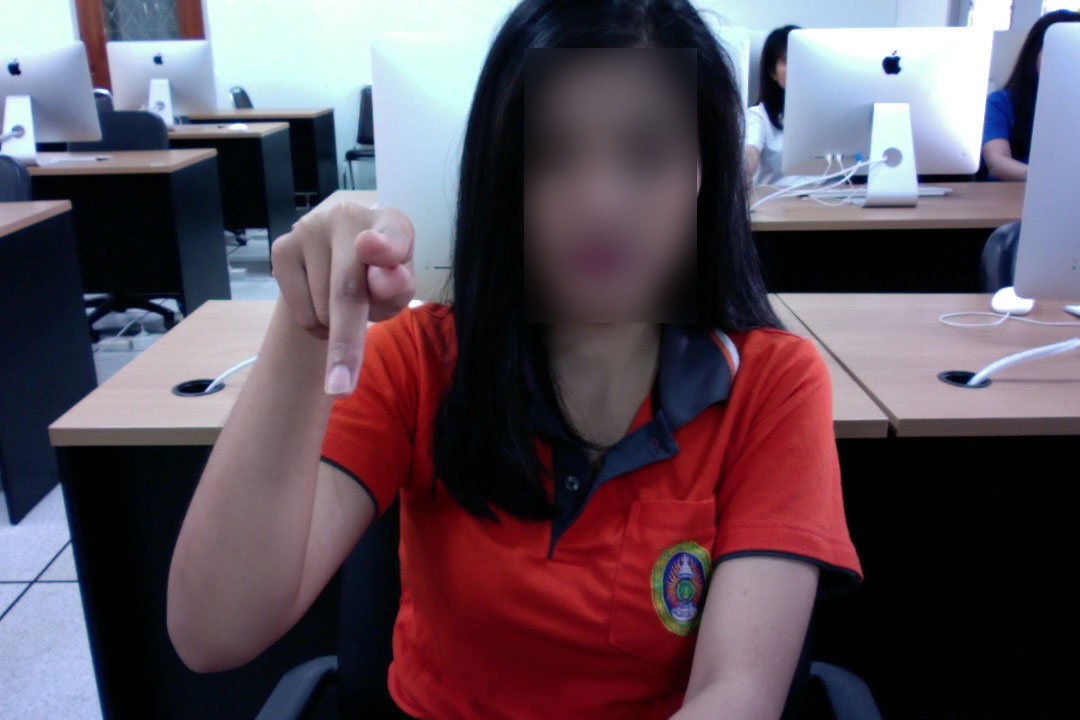por: (260, 186, 429, 402)
